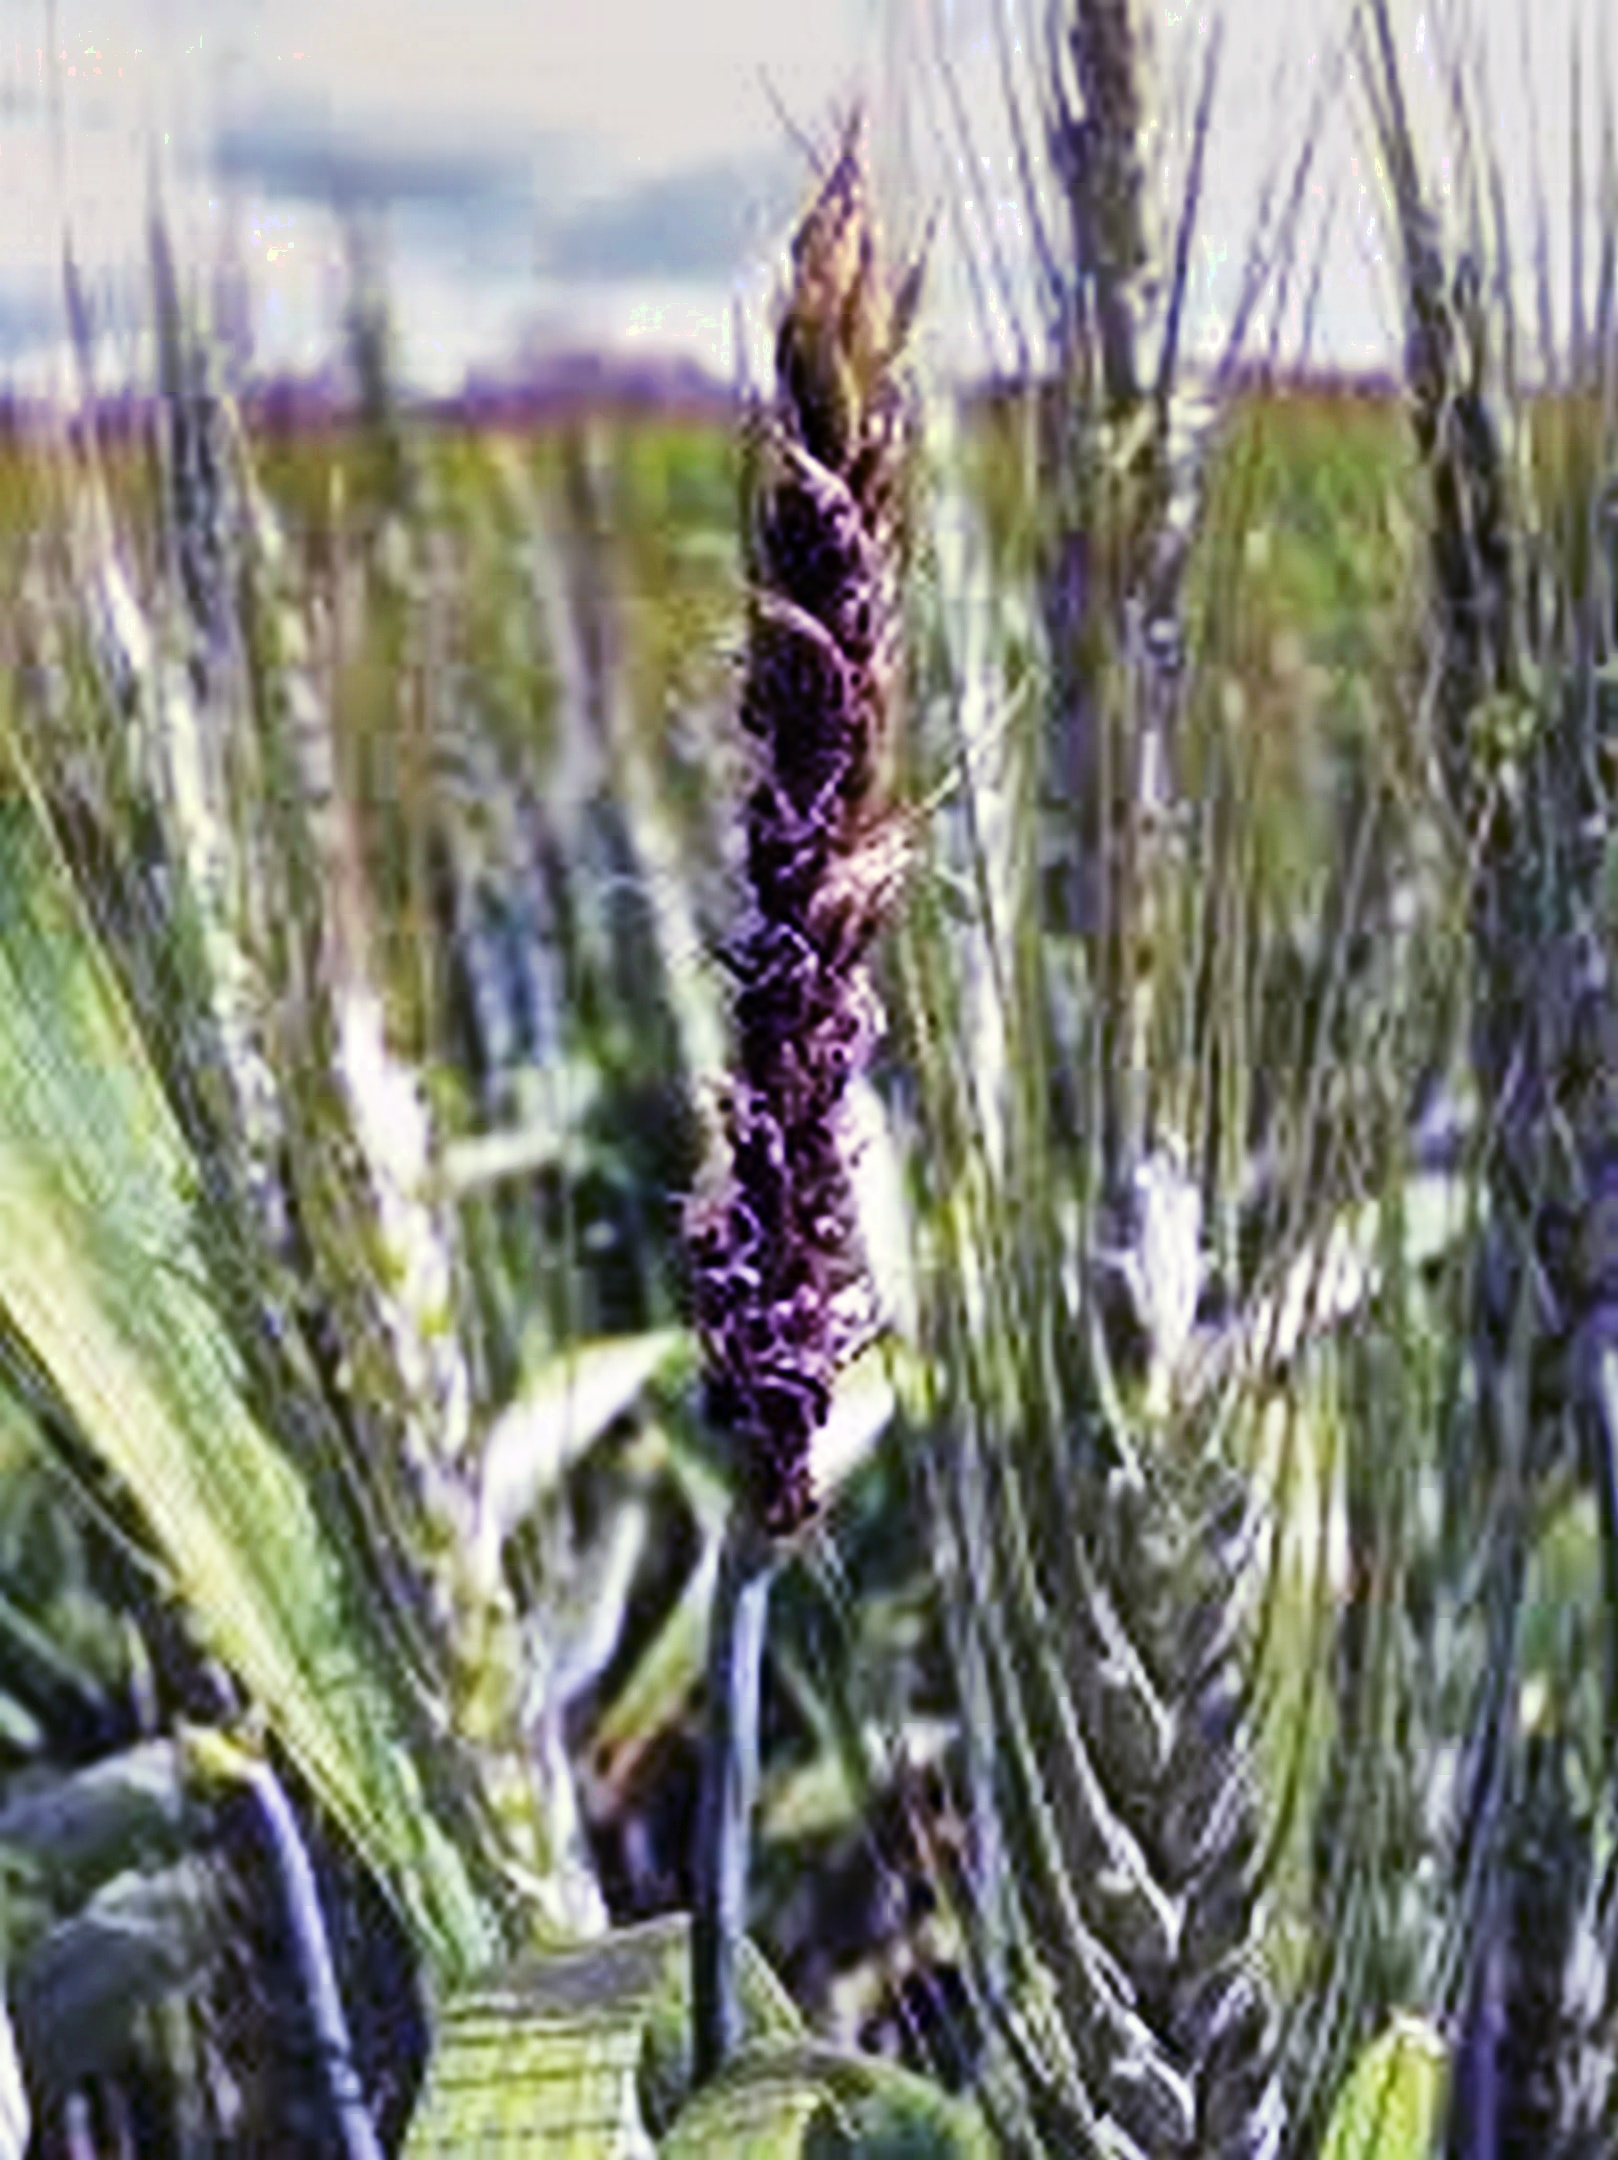Wheat Loose Smut: (658, 263, 938, 1511)
